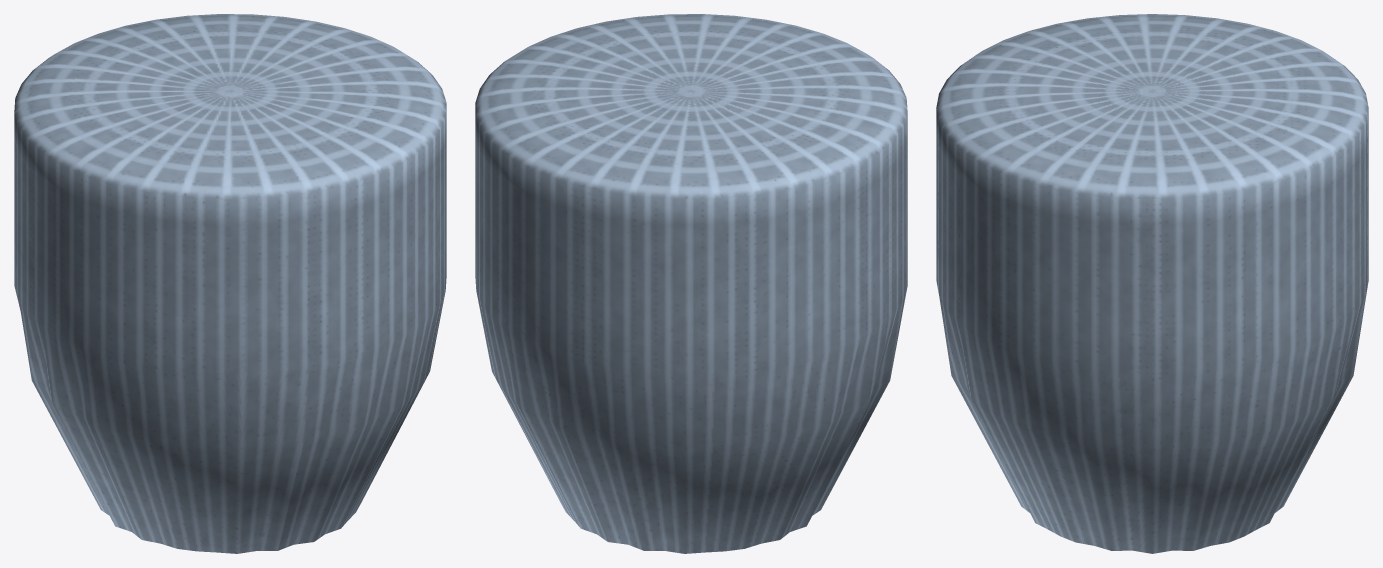
The model's file is shell_fluted_tower.glb.
3 renders of one model, left to right at view 1: azimuth 30°, elevation 25°; view 2: azimuth 150°, elevation 25°; view 3: azimuth 270°, elevation 25°, orthographic.
Visible parts, largest first — view 1: ShellFlutedTower; view 2: ShellFlutedTower; view 3: ShellFlutedTower.
Part boxes in pixels (bbox=[...]): ShellFlutedTower: bbox=[14, 14, 446, 553]; ShellFlutedTower: bbox=[475, 14, 907, 553]; ShellFlutedTower: bbox=[936, 14, 1368, 553].
Size of the model in its own units: 2.4 by 2.64 by 2.4.
1 material, 1 textured.
